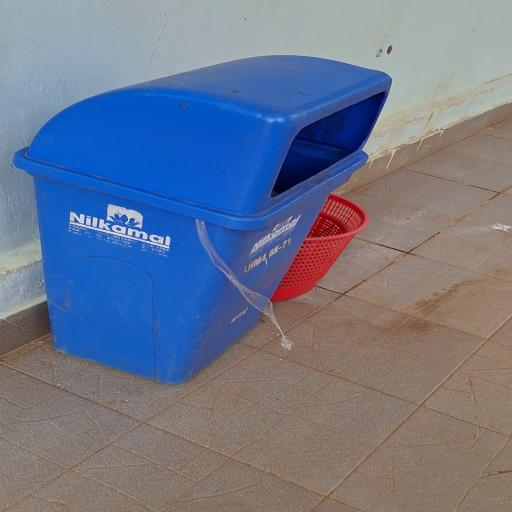Nilkamal-dustbin-detection: (14, 55, 390, 382)
